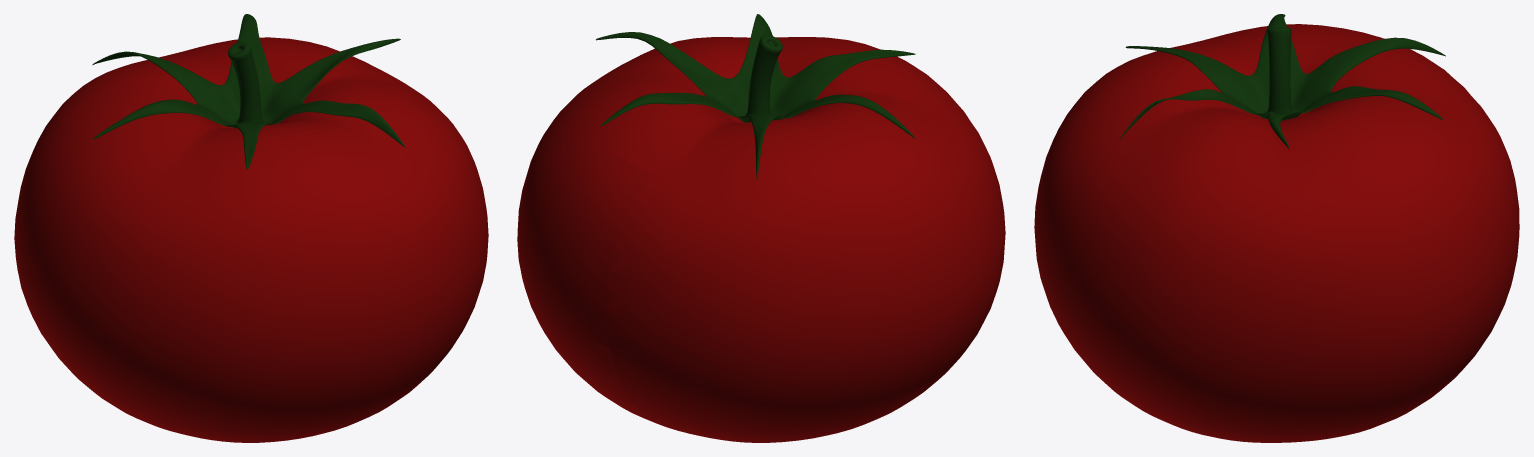
Rendered from TOMATO.FBX.
3 renders of one model, left to right at view 1: azimuth 30°, elevation 25°; view 2: azimuth 150°, elevation 25°; view 3: azimuth 270°, elevation 25°, orthographic. The views are drawn at different scales.
Parts seen in each view (by area): view 1: Tomato_01; view 2: Tomato_01; view 3: Tomato_01.
Part boxes in pixels (bbox=[...]): Tomato_01: bbox=[14, 14, 488, 442]; Tomato_01: bbox=[517, 14, 1005, 442]; Tomato_01: bbox=[1034, 14, 1519, 442].
Bounding box in the file's own units: 496 × 434 × 493.
